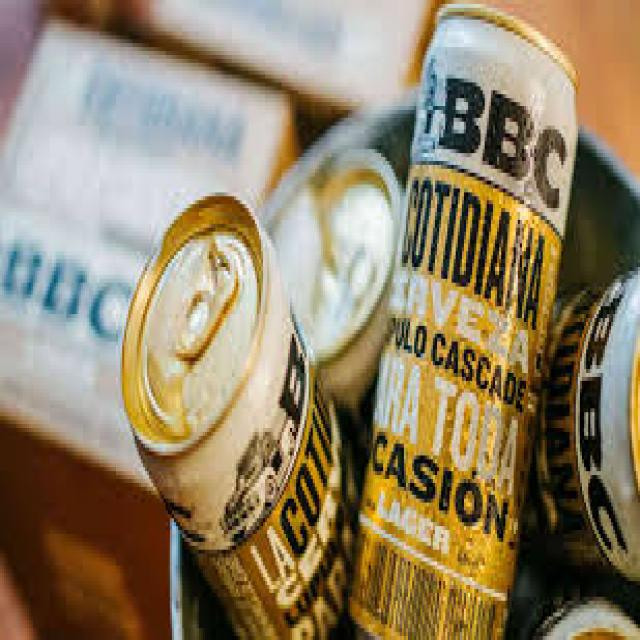Lata: (353, 14, 578, 640), (121, 189, 361, 640), (527, 264, 640, 589)
